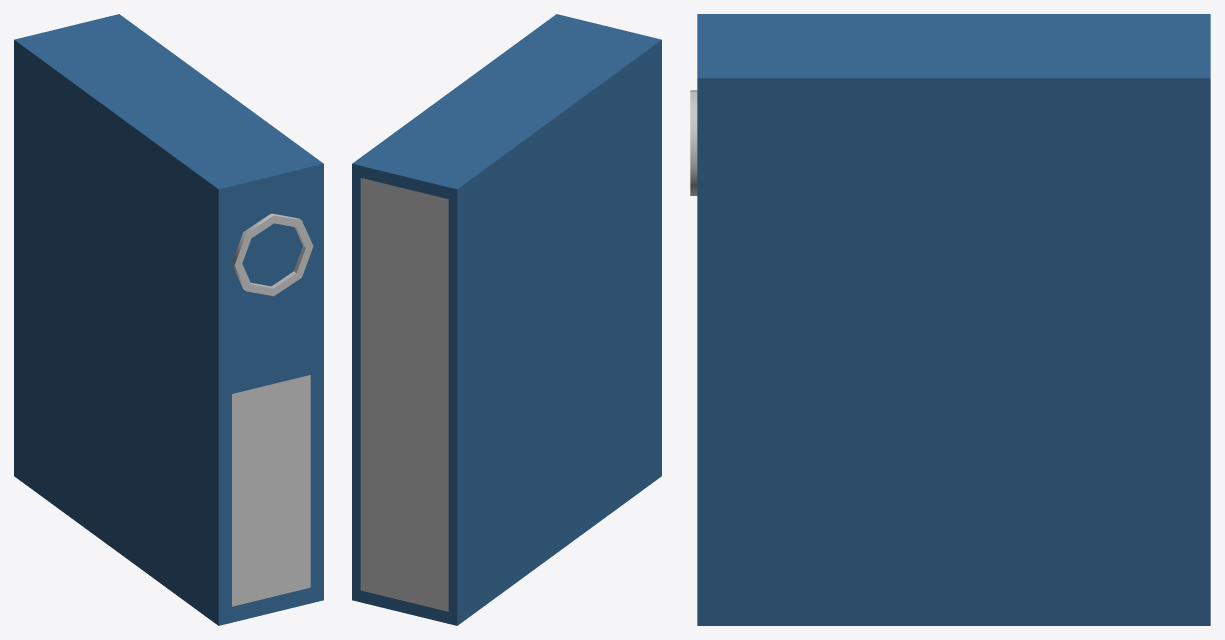
The model's file is file book2.FBX.
3 views of the same model, side by side, from view 1: azimuth 30°, elevation 25°; view 2: azimuth 150°, elevation 25°; view 3: azimuth 270°, elevation 25° (orthographic). The views are drawn at different scales.
Visible parts, largest first — view 1: file book2; view 2: file book2; view 3: file book2.
Boxes of the visible parts, x1,y1,x2,y2 form: file book2: [14, 14, 323, 625]; file book2: [352, 14, 661, 625]; file book2: [690, 14, 1210, 625].
Bounding box in the file's own units: 6.73 × 26.69 × 22.98.
Materials: 1 (1 with a texture image).
